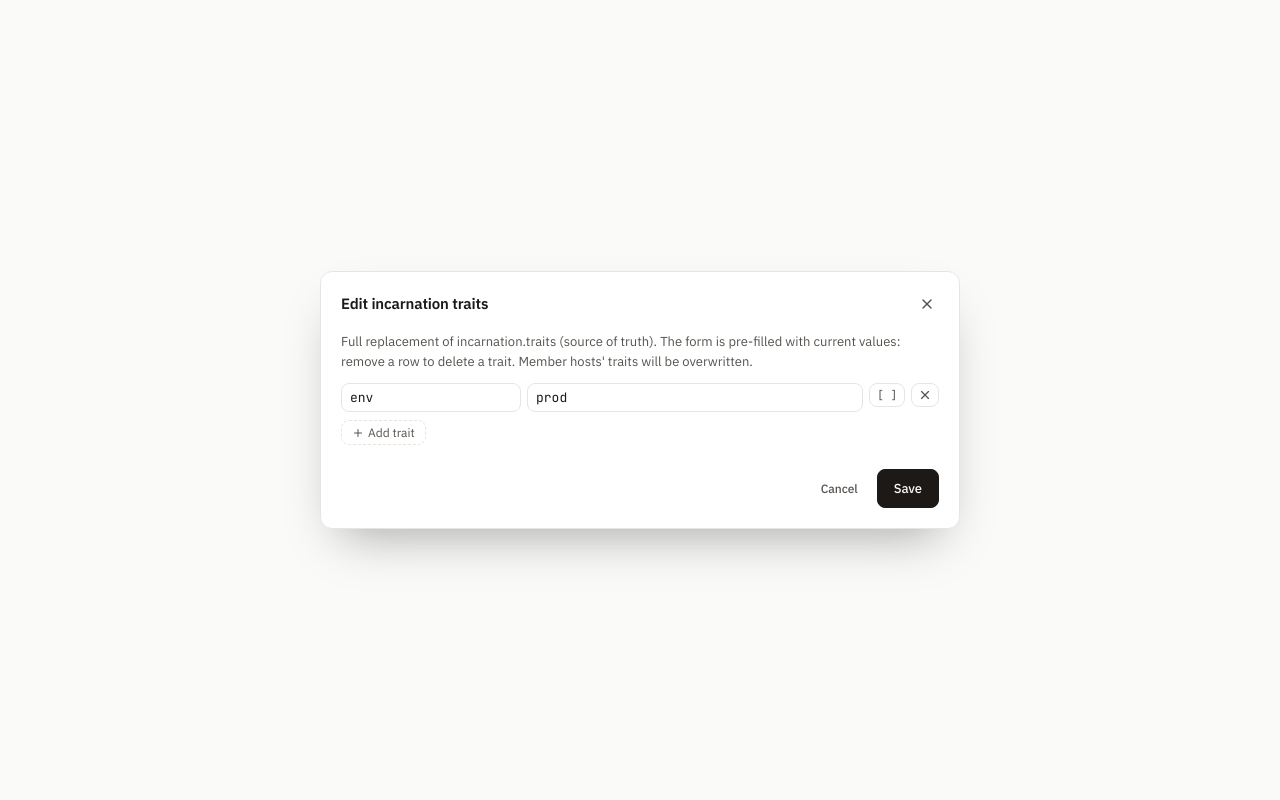
Test: IncarnationTraitsModal › save invalidates both the detail and the incarnations list
Click the button "Save" at (908, 488), box [877,469,939,508]
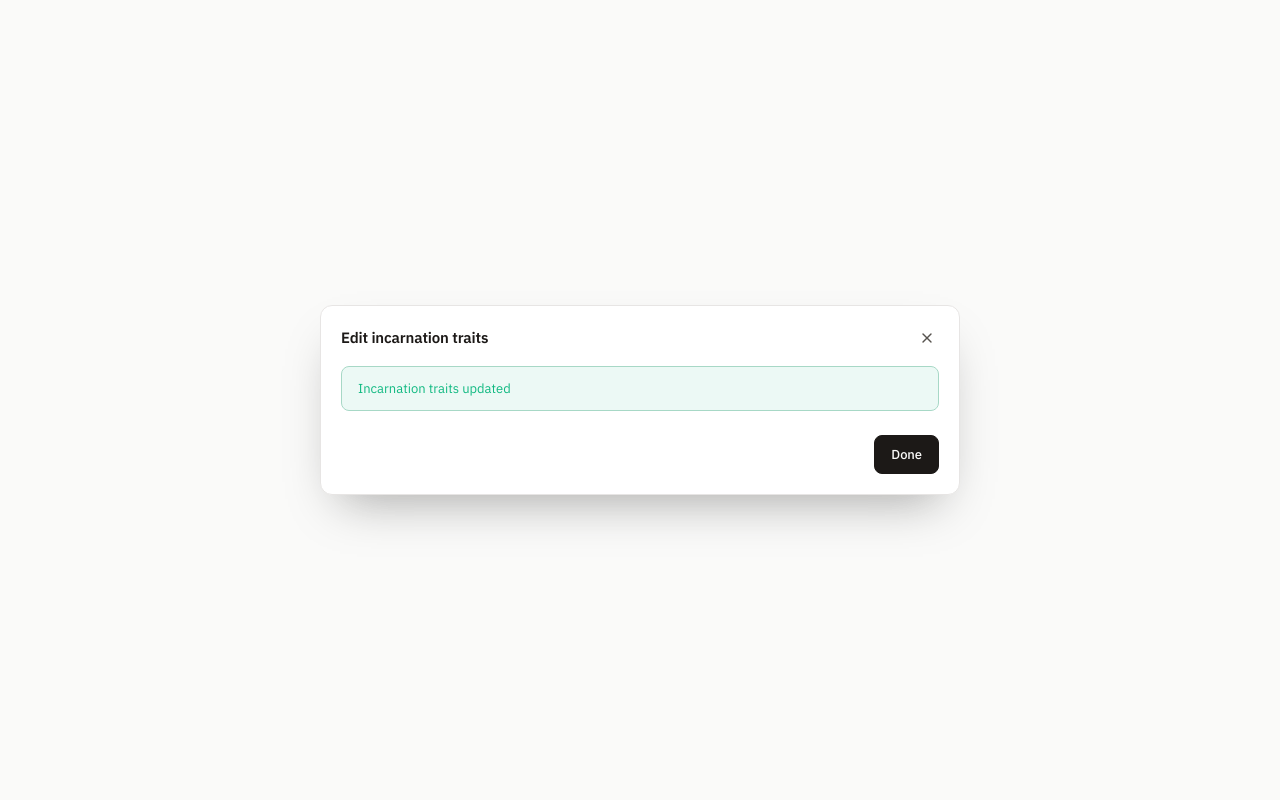
Now the text "Incarnation traits updated" is shown, box [341,366,939,411]
